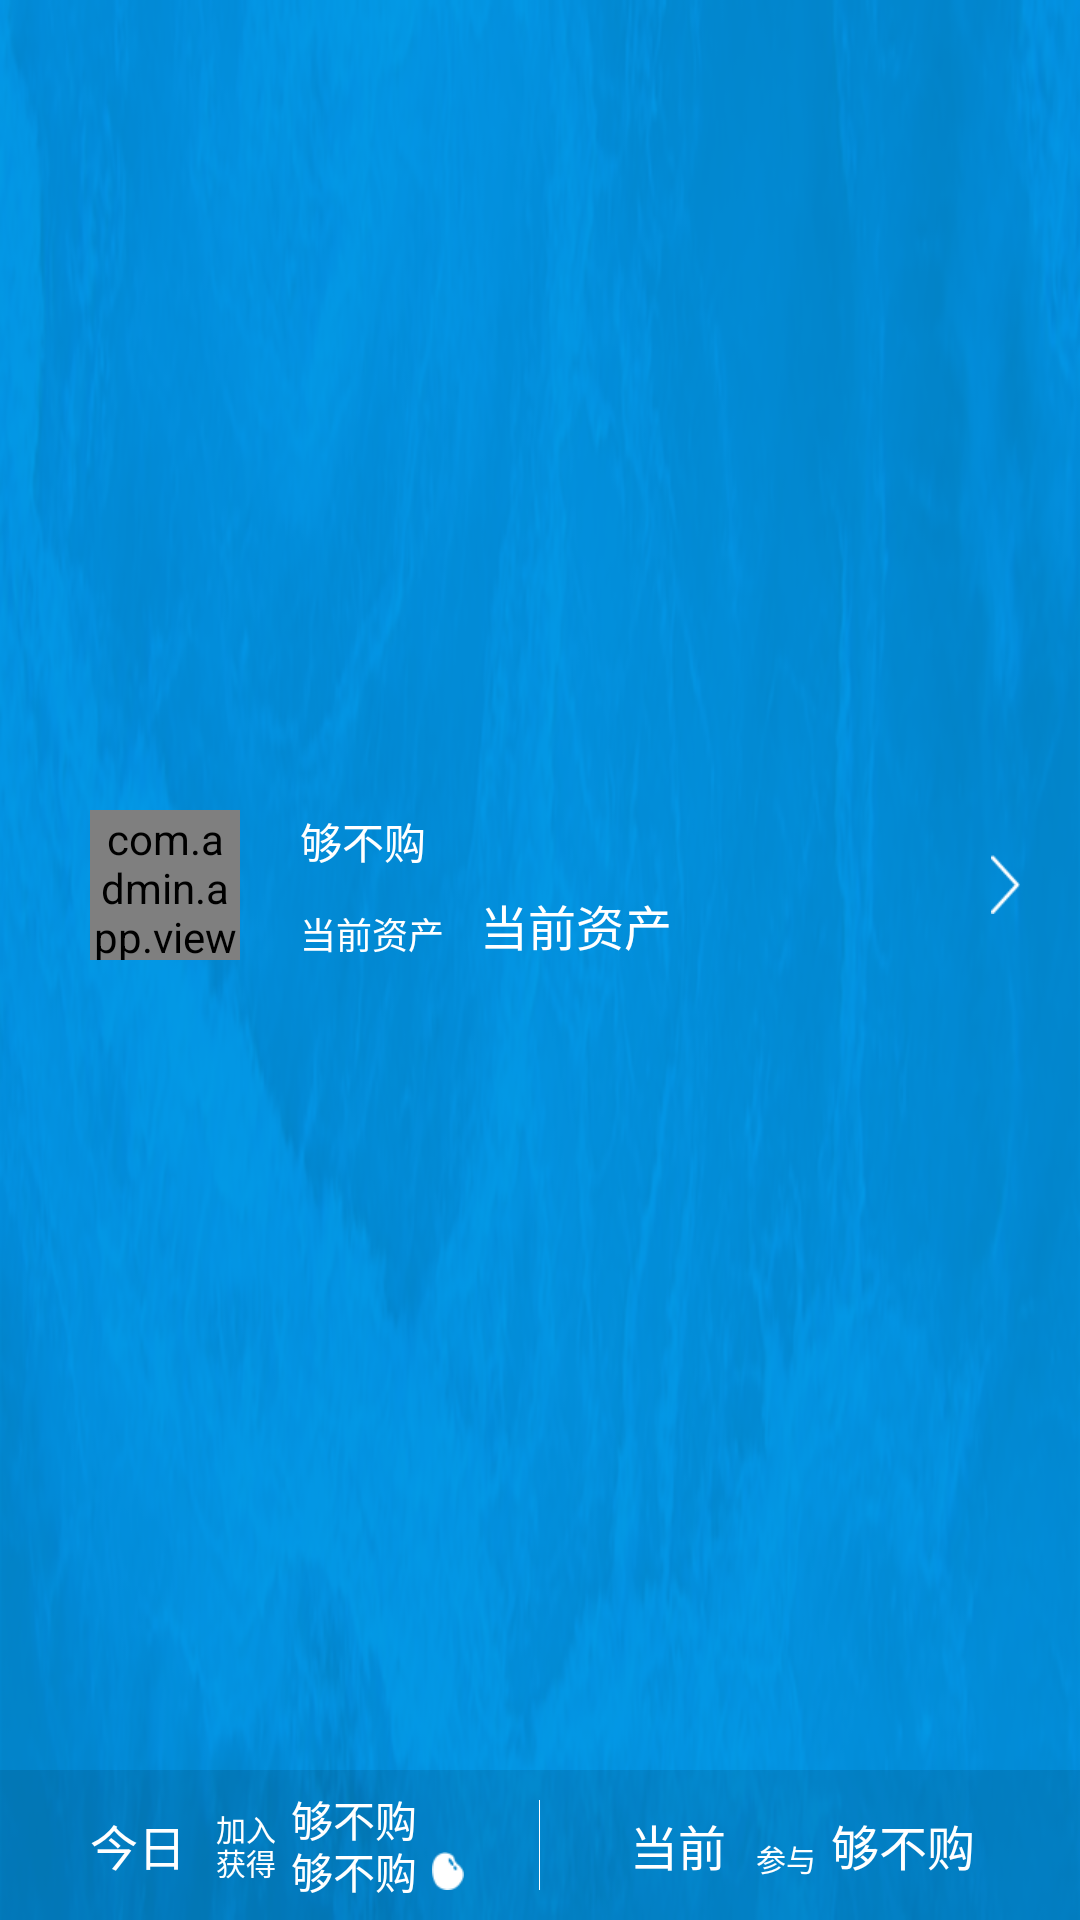

Icons on this 1080×1920 Android screen, each with its box as box=[x1, y1, x2, y2]:
arrow right: box=[991, 855, 1020, 914]
